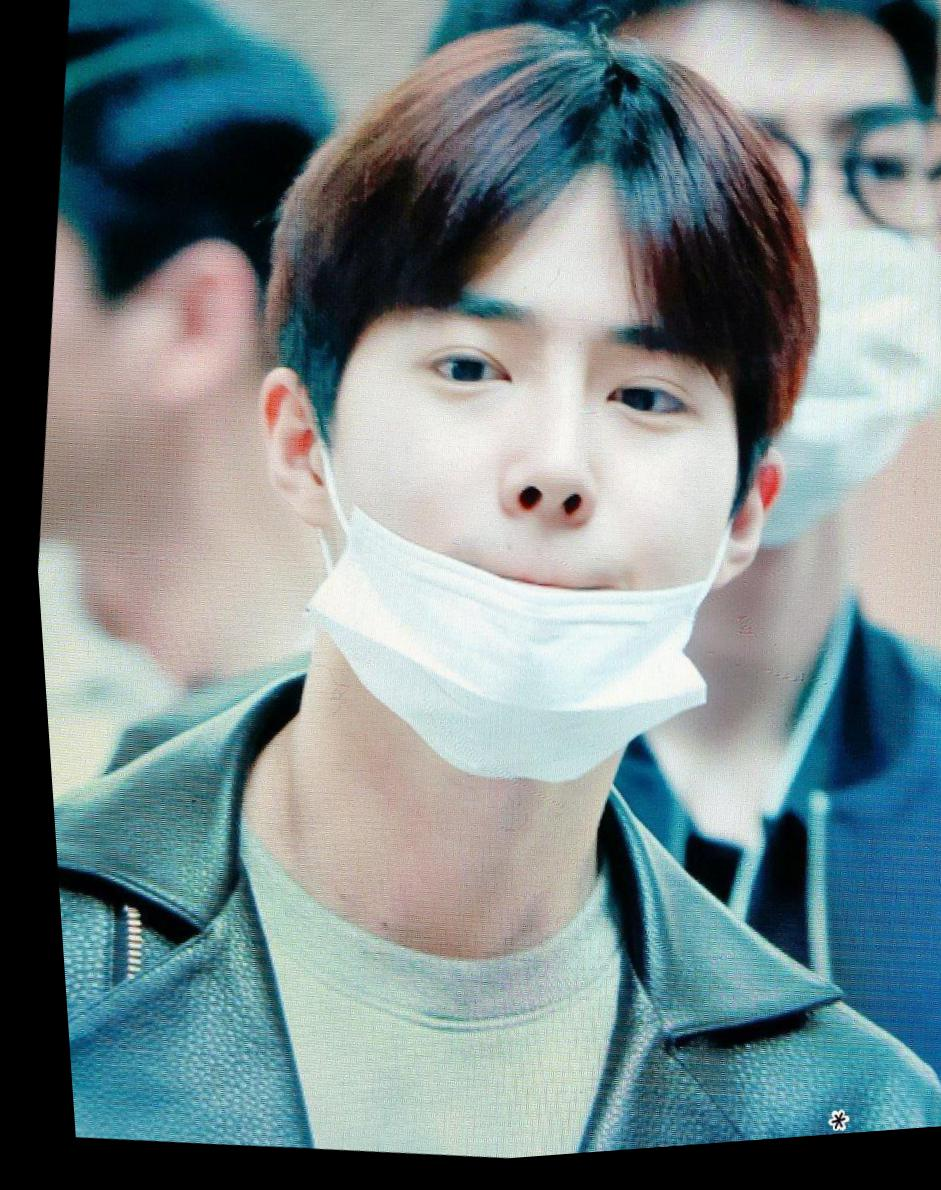OK: (517, 17, 941, 593)
WRONG: (278, 220, 774, 812)
